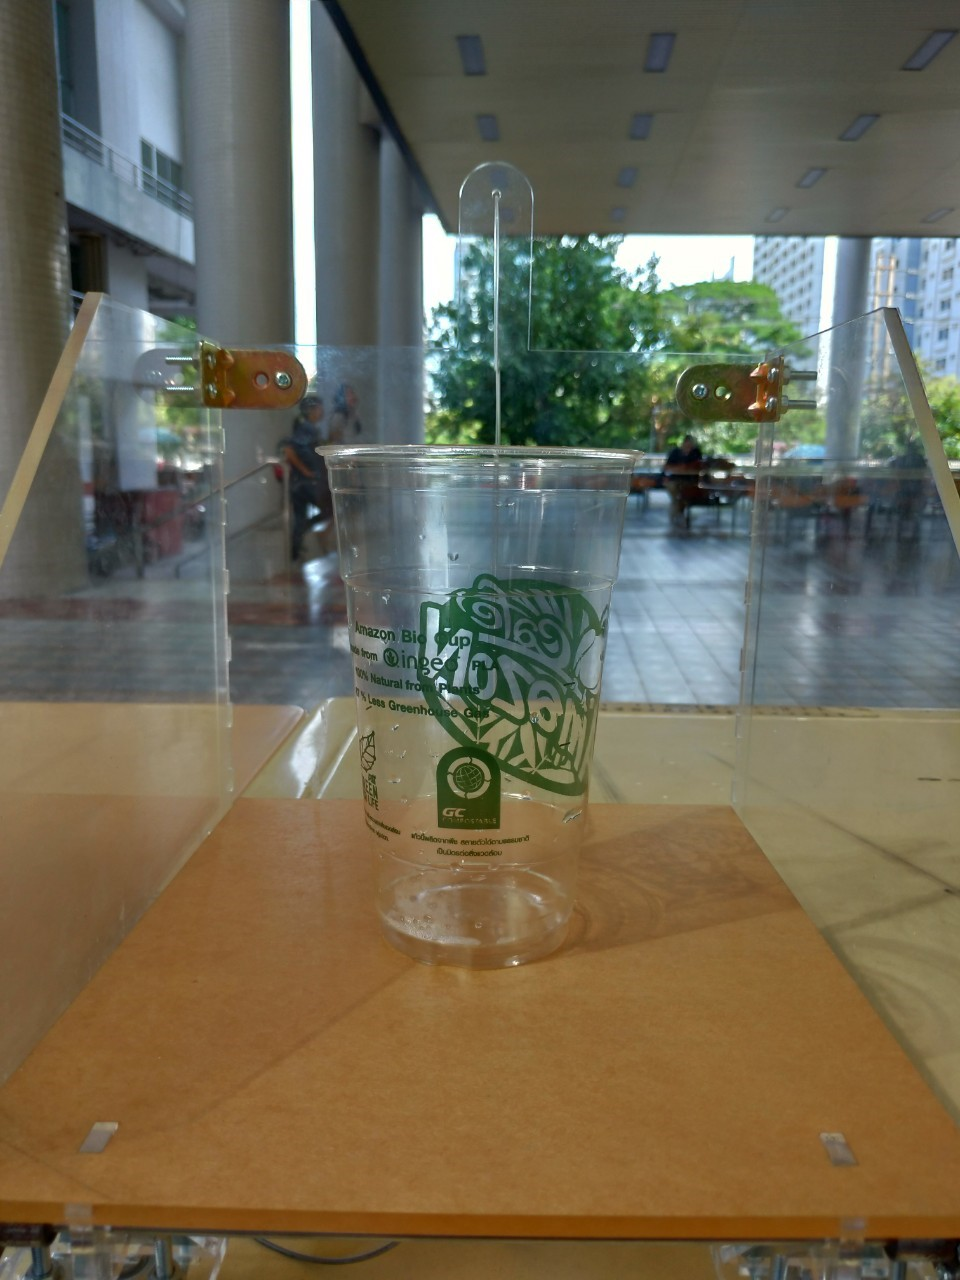PlasticCup: (308, 439, 661, 966)
